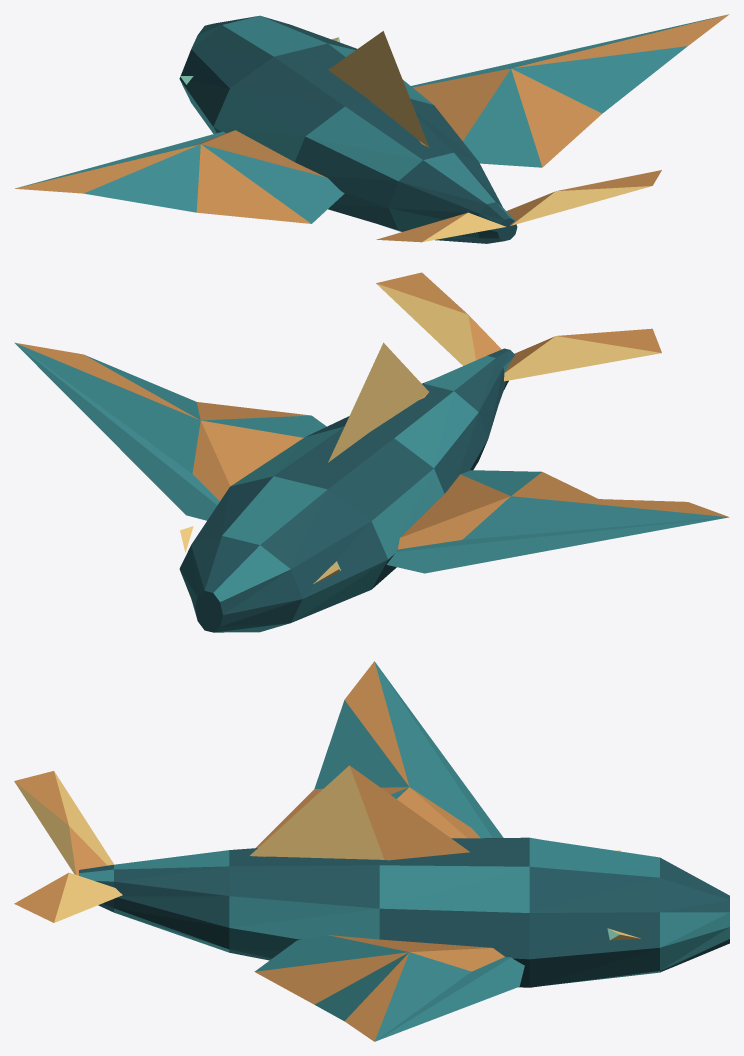
Rendered from Tidewing.obj.
3 views of the same model, one above another, from view 1: azimuth 30°, elevation 25°; view 2: azimuth 150°, elevation 25°; view 3: azimuth 270°, elevation 25° (orthographic). The views are drawn at different scales.
Visible parts, largest first — view 1: Tidewing; view 2: Tidewing; view 3: Tidewing.
Boxes of the visible parts, x1=… form: Tidewing: x1=15, y1=14, x2=729, y2=243; Tidewing: x1=14, y1=272, x2=729, y2=632; Tidewing: x1=14, y1=661, x2=729, y2=1041.
Size of the model in its own units: 18 by 4.58 by 14.3.
